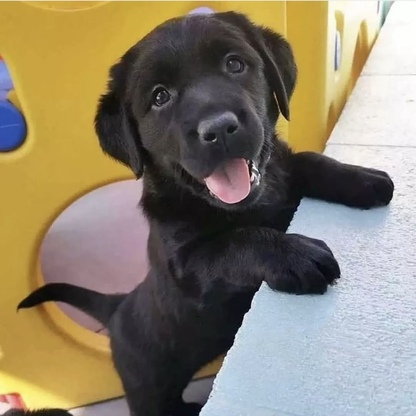labrado: (10, 7, 398, 416)
